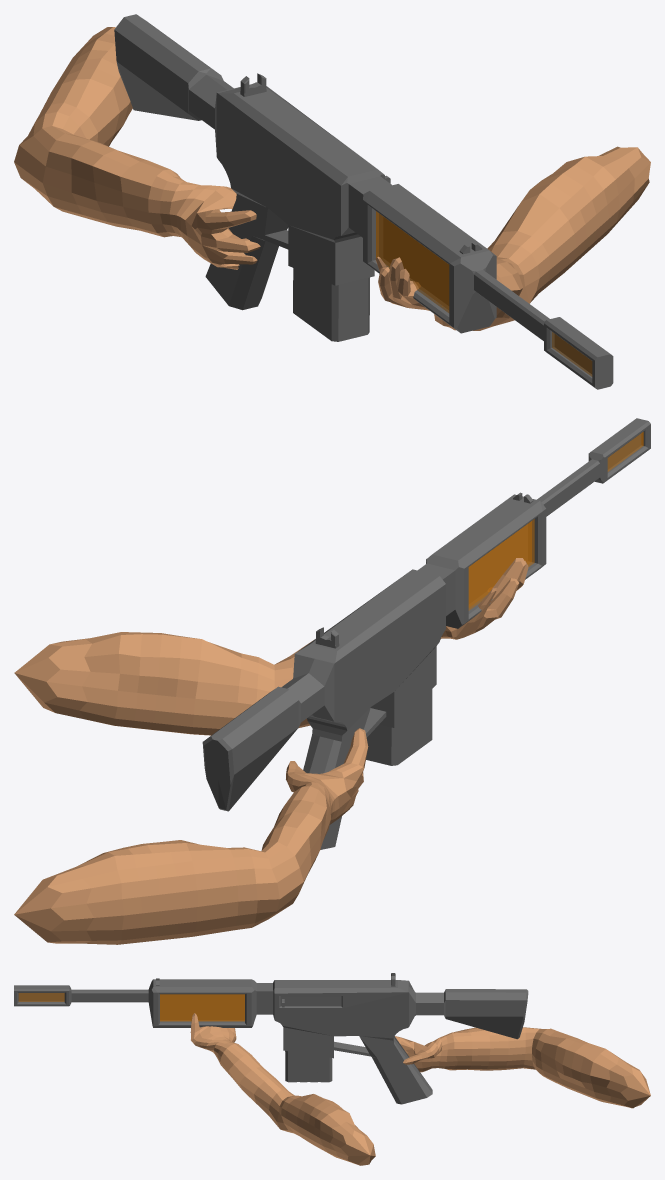
Rendered from PlasmaGunV8.fbx.
The picture shows the model from 3 angles, top to bottom: view 1: azimuth 30°, elevation 25°; view 2: azimuth 150°, elevation 25°; view 3: azimuth 270°, elevation 25°; orthographic projection. The views are drawn at different scales.
Visible parts, largest first — view 1: GUN BASE, Cube, Cube.001, GUN BASE.003; view 2: GUN BASE, Cube, Cube.001, GUN BASE.003; view 3: GUN BASE, Cube, Cube.001, GUN BASE.003, GUN BASE.002.
Part boxes in pixels (box(x1,y1,x2,y2)): GUN BASE: box(114, 14, 613, 389); Cube: box(14, 27, 260, 269); Cube.001: box(375, 146, 650, 330); GUN BASE.003: box(376, 211, 592, 376); GUN BASE: box(202, 418, 650, 849); Cube: box(14, 728, 368, 944); Cube.001: box(14, 558, 528, 735); GUN BASE.003: box(468, 432, 643, 610); GUN BASE: box(14, 973, 528, 1104); Cube: box(395, 1027, 650, 1108); Cube.001: box(190, 1013, 375, 1165); GUN BASE.003: box(18, 993, 244, 1021); GUN BASE.002: box(280, 996, 341, 1007).
Size of the model in its own units: 214 by 104 by 473.
